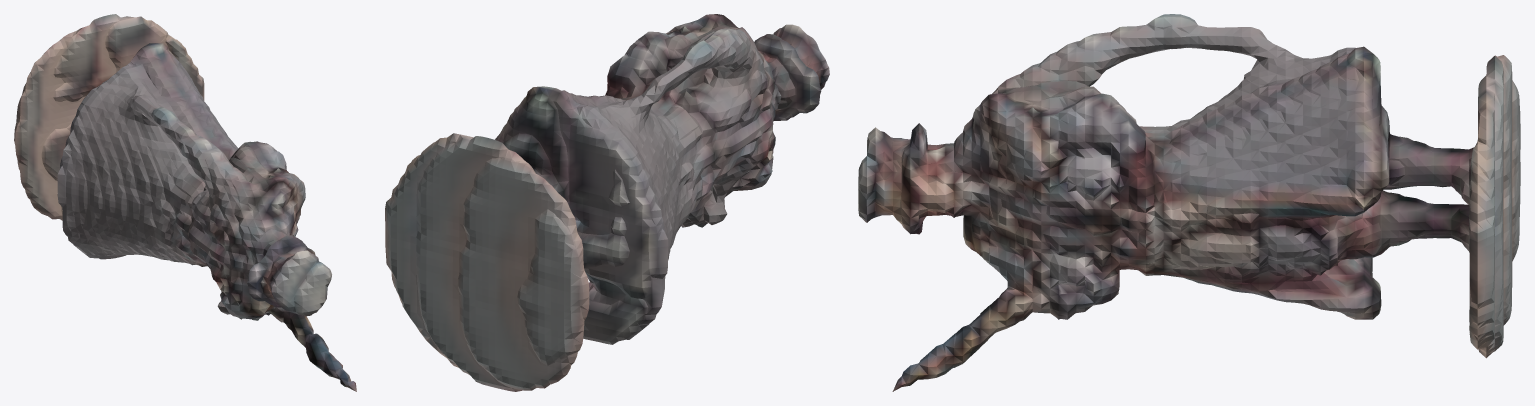
The model's file is industrial_warrior_f_0.glb.
3 views of the same model, side by side, from view 1: azimuth 30°, elevation 25°; view 2: azimuth 150°, elevation 25°; view 3: azimuth 270°, elevation 25° (orthographic). The views are drawn at different scales.
Visible parts, largest first — view 1: world; view 2: world; view 3: world.
Boxes of the visible parts, x1,y1,x2,y2 form: world: [14, 14, 356, 391]; world: [385, 14, 829, 391]; world: [858, 14, 1520, 391].
Bounding box in the file's own units: 0.4775 × 0.549 × 1.04.
